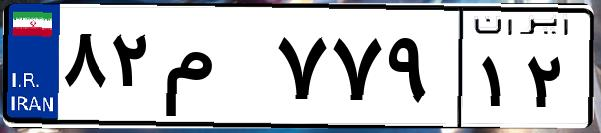1: (475, 38, 525, 113)
2: (525, 38, 570, 115), (110, 28, 158, 98)
7: (270, 28, 330, 110), (330, 28, 385, 110)
8: (57, 26, 110, 100)
9: (385, 28, 445, 110)
م: (158, 20, 270, 120)
